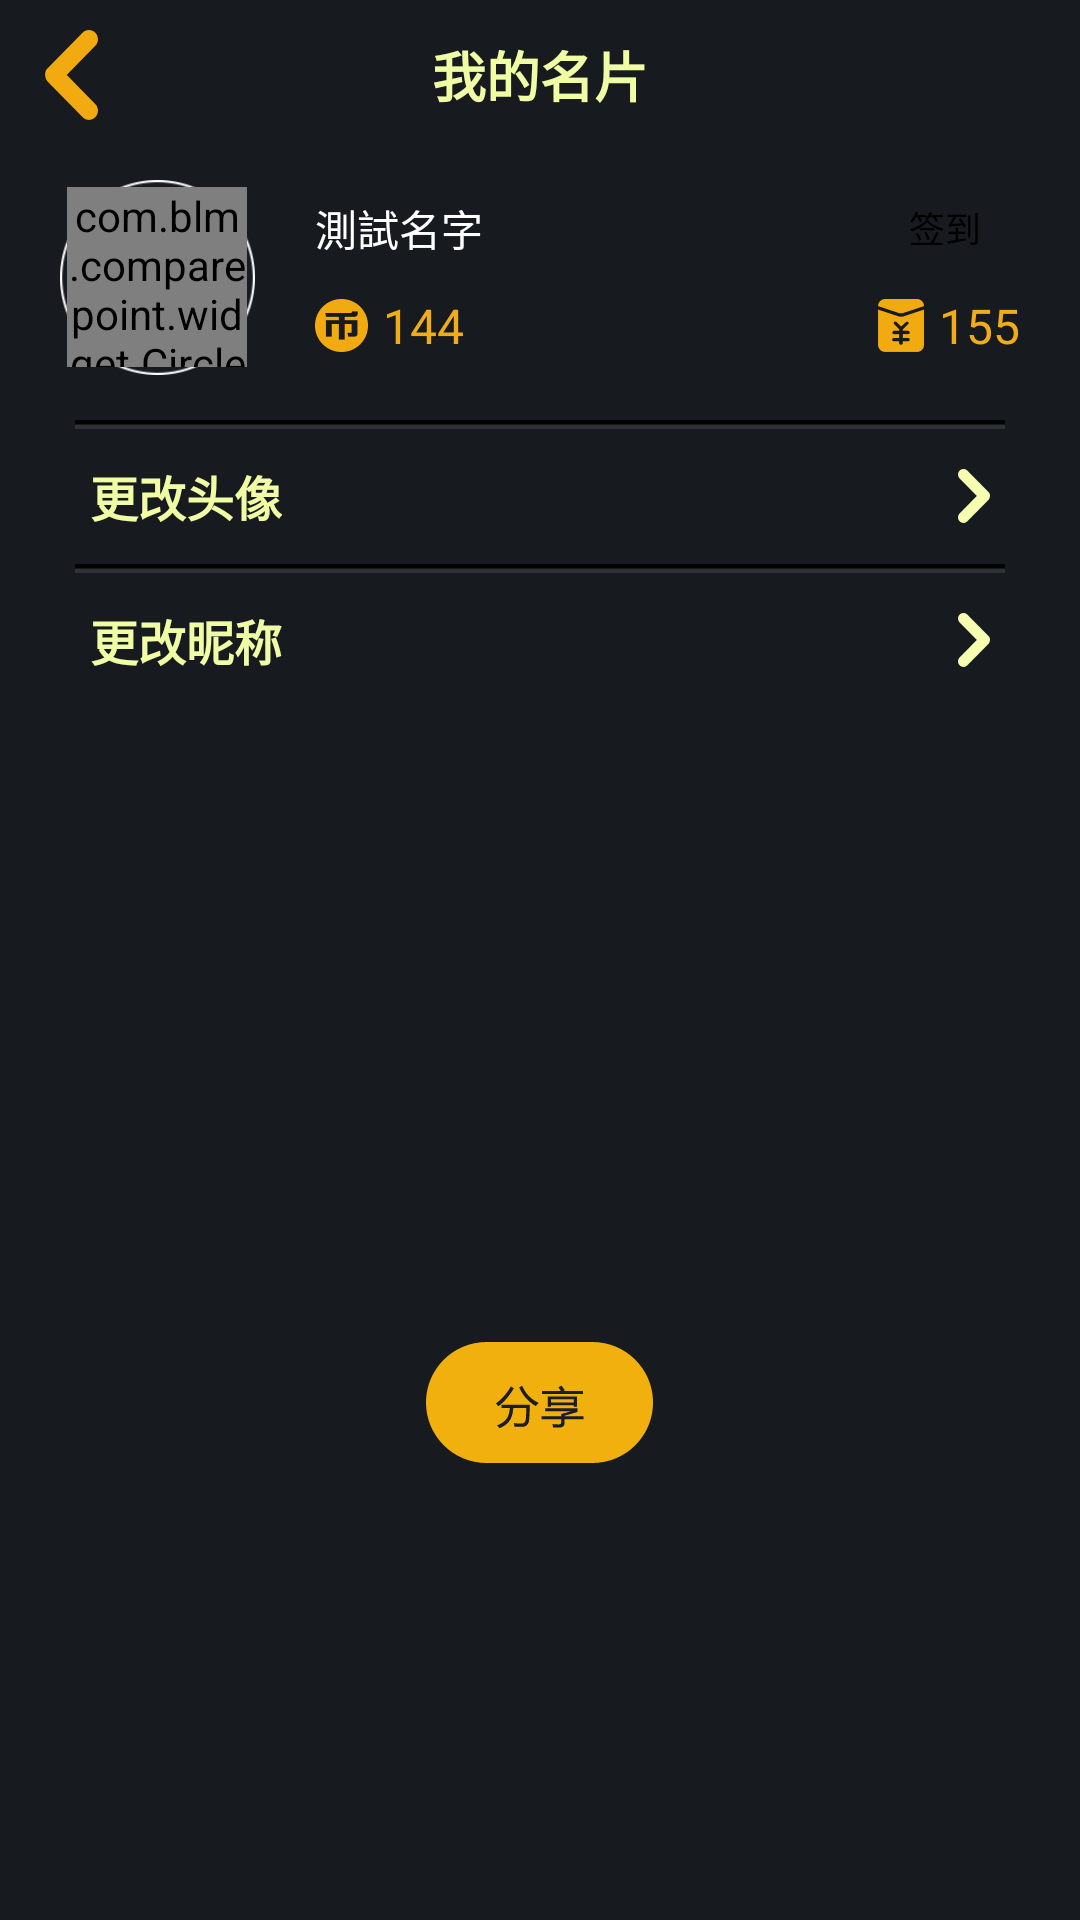

Where to tap for icons on this 1080 × 1920 app screen, as (x=x, y=y):
arrow right: (x=974, y=496), (x=974, y=640)
back: (x=71, y=75)
